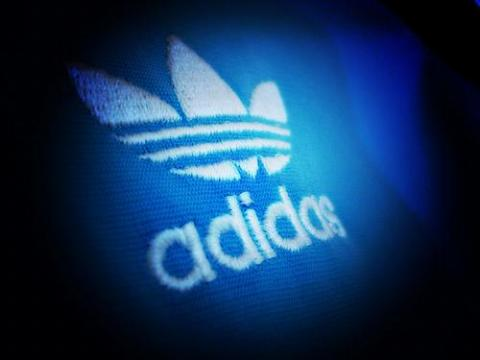addidas: (70, 36, 306, 183)
